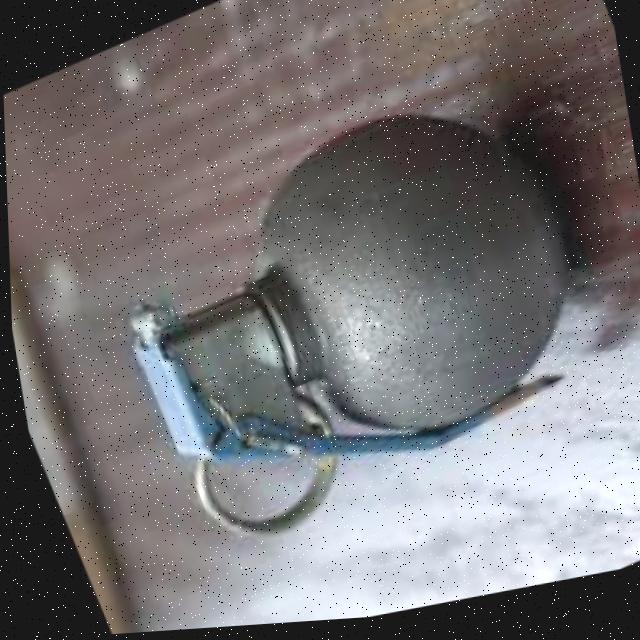grenade: (51, 43, 640, 577)
